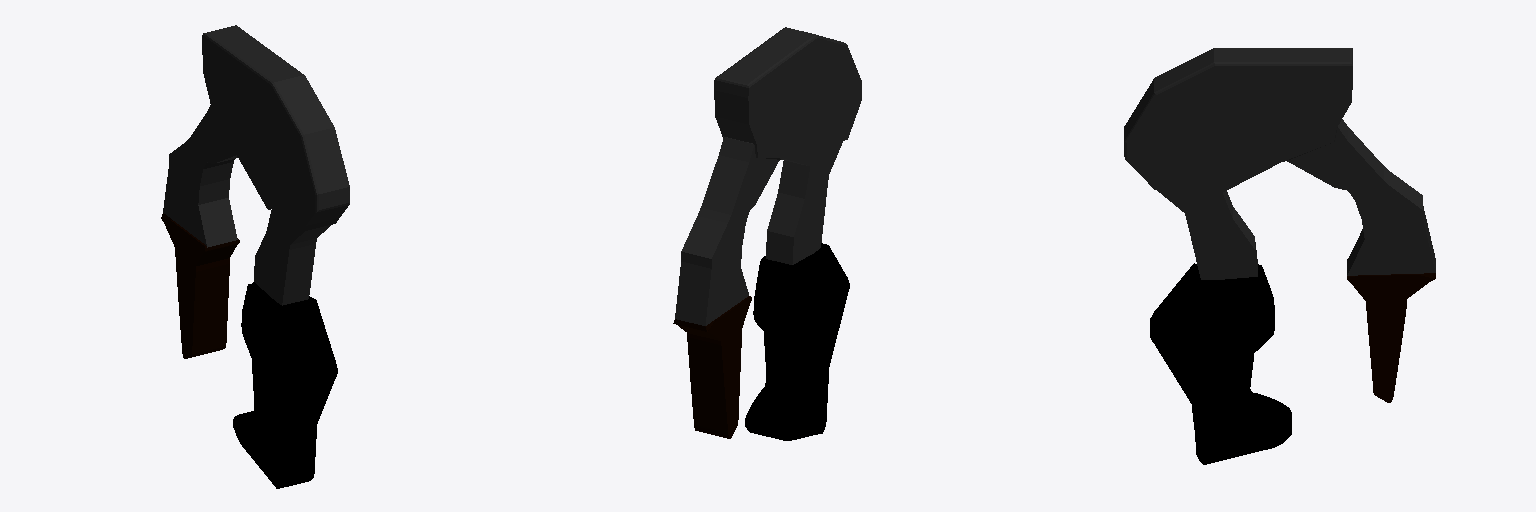
File: legs.obj
3 renders of one model, left to right at view 1: azimuth 30°, elevation 25°; view 2: azimuth 150°, elevation 25°; view 3: azimuth 270°, elevation 25°, orthographic.
Parts seen in each view (by area): view 1: Bas_Mesh.001, Bas.001_Mesh.037, Bas.002_Mesh.038; view 2: Bas_Mesh.001, Bas.001_Mesh.037, Bas.002_Mesh.038; view 3: Bas_Mesh.001, Bas.001_Mesh.037, Bas.002_Mesh.038.
Part boxes in pixels (left/top/right/bottom): Bas_Mesh.001: left=163, top=25, right=349, bottom=305; Bas.001_Mesh.037: left=233, top=282, right=337, bottom=488; Bas.002_Mesh.038: left=161, top=213, right=239, bottom=358; Bas_Mesh.001: left=675, top=27, right=861, bottom=325; Bas.001_Mesh.037: left=745, top=243, right=849, bottom=440; Bas.002_Mesh.038: left=673, top=296, right=751, bottom=438; Bas_Mesh.001: left=1124, top=48, right=1435, bottom=279; Bas.001_Mesh.037: left=1150, top=263, right=1291, bottom=464; Bas.002_Mesh.038: left=1347, top=259, right=1435, bottom=402.
Size of the model in its own units: 0.227 by 2.55 by 1.79.